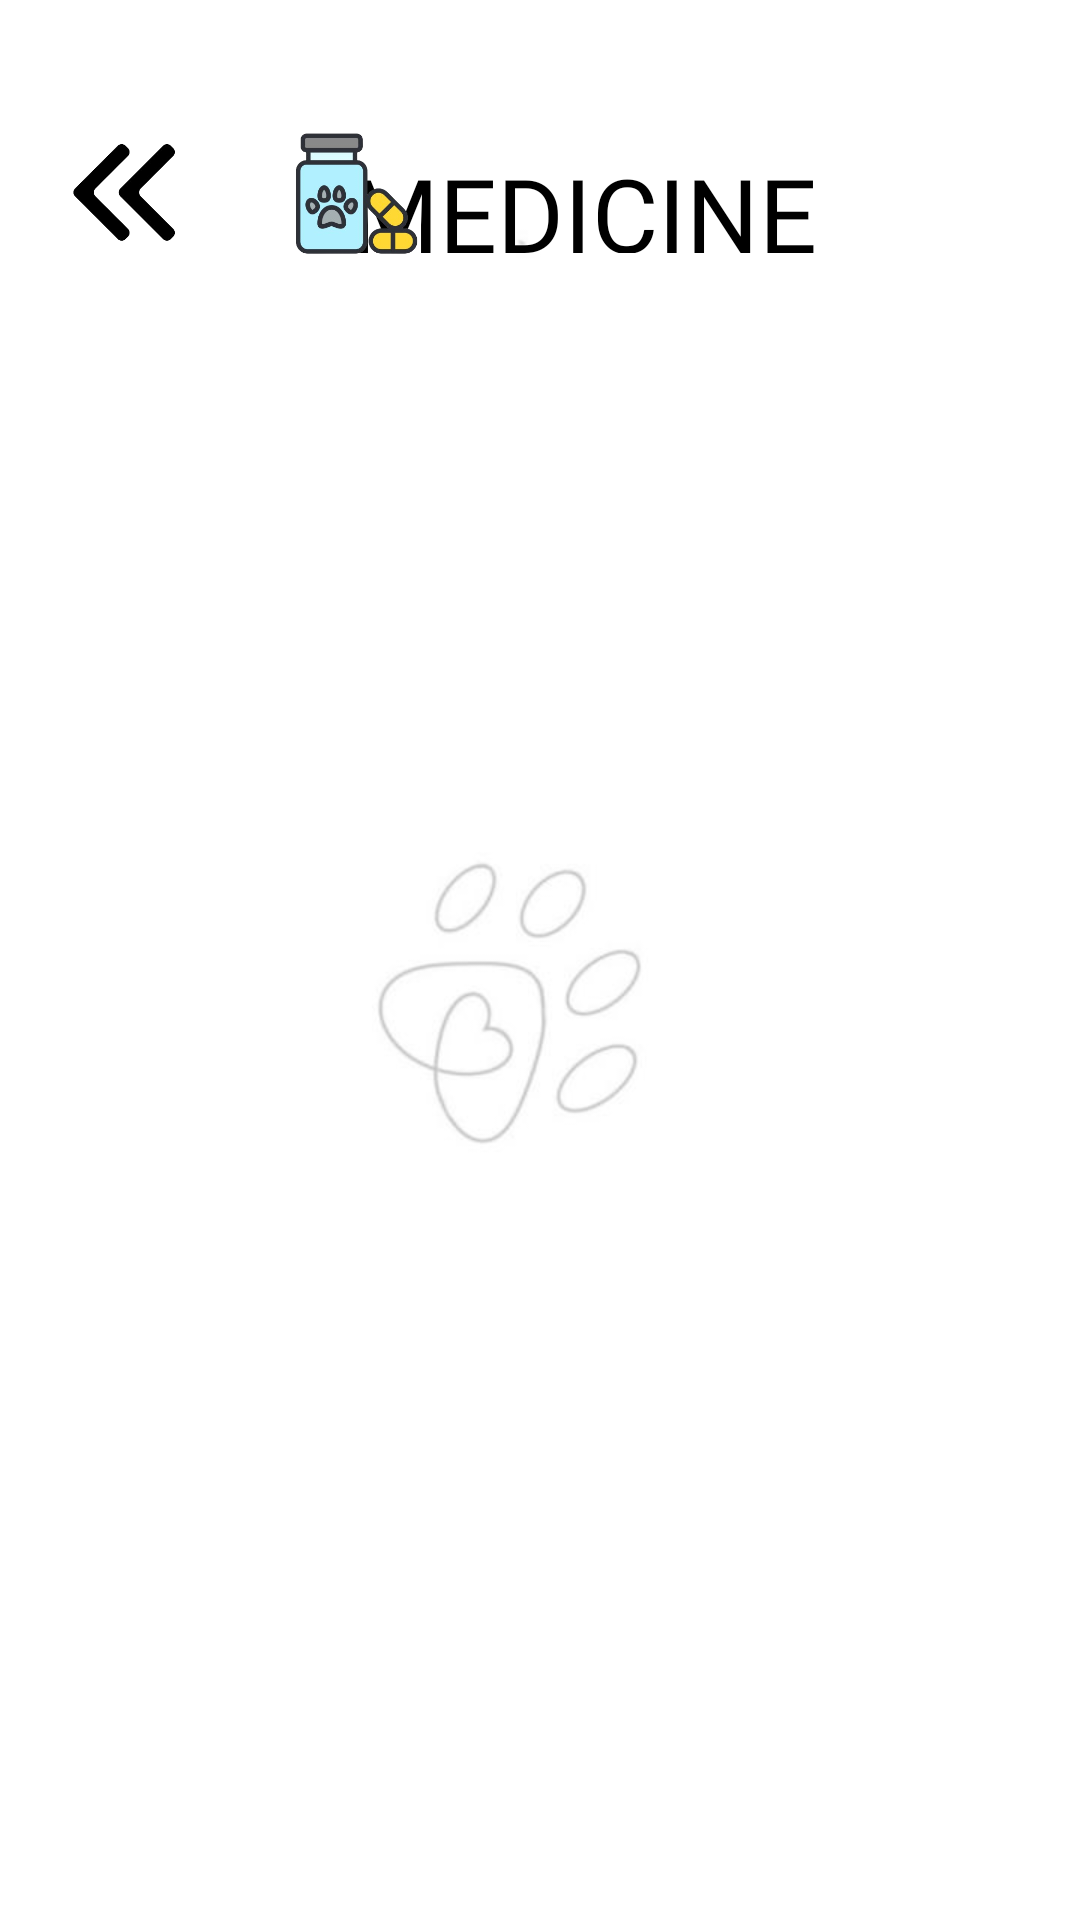

Screen size 1080*1920. Icon name, then its center in pixels as [x,y]:
back: [124,192]
